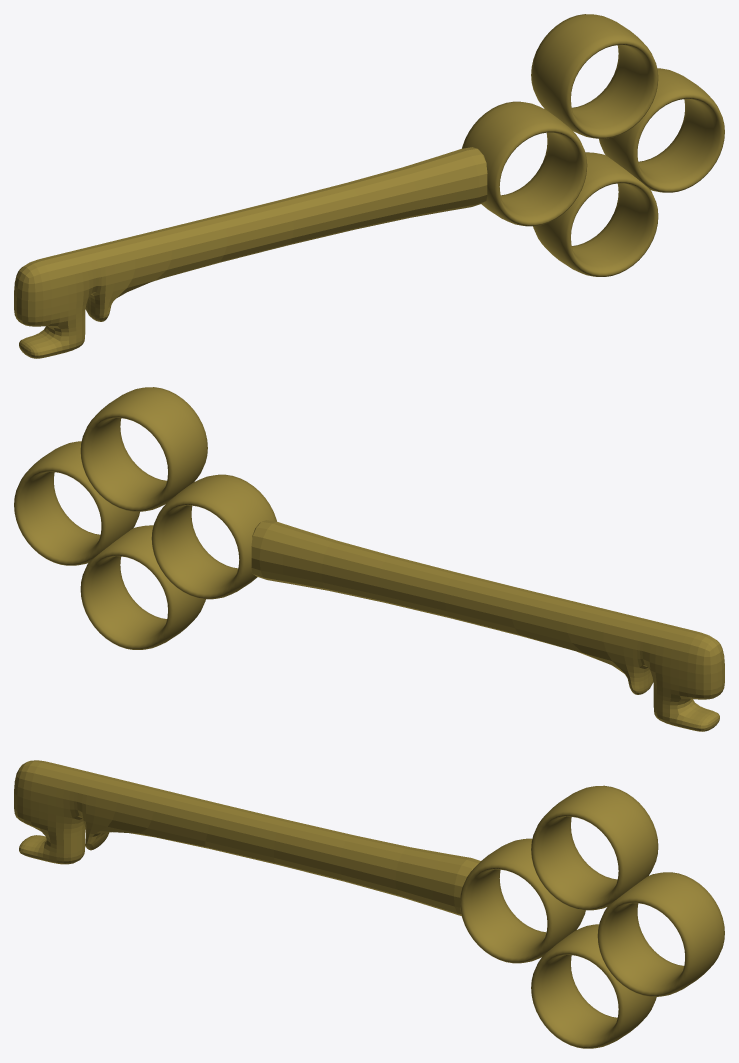
The model's file is medieval-key-spin.fbx.
3 renders of one model, top to bottom at view 1: azimuth 30°, elevation 25°; view 2: azimuth 150°, elevation 25°; view 3: azimuth 330°, elevation 25°, orthographic.
Visible parts, largest first — view 1: Key; view 2: Key; view 3: Key.
Boxes of the visible parts, x1,y1,x2,y2 form: Key: [14, 14, 724, 358]; Key: [14, 387, 724, 731]; Key: [14, 760, 724, 1048].
Bounding box in the file's own units: 363 × 122 × 33.79.
